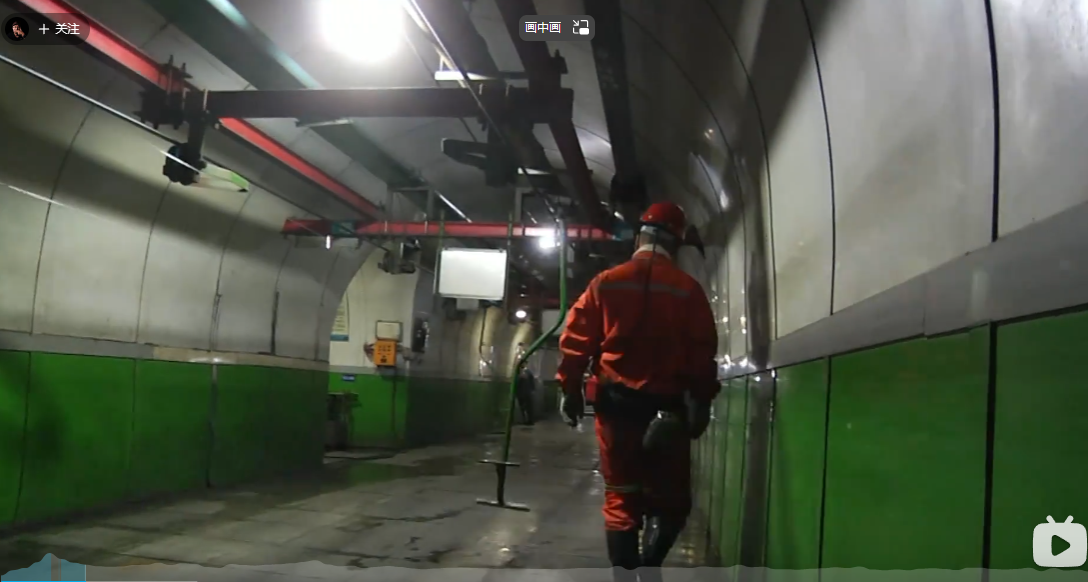device: (557, 198, 717, 579)
